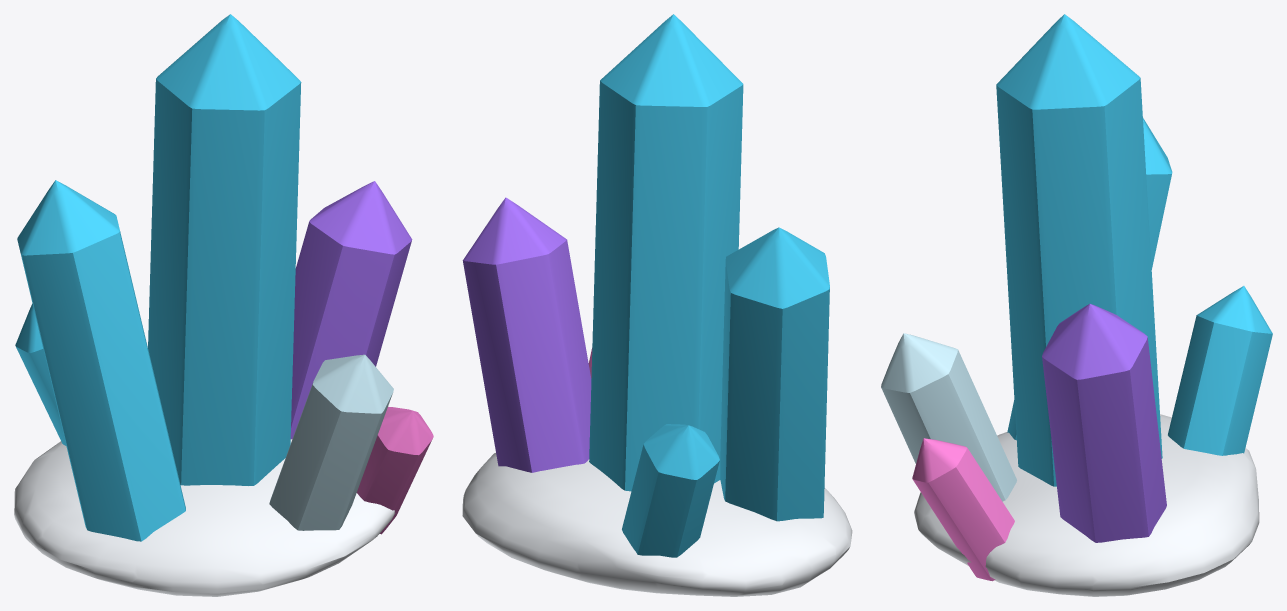
Rendered from CrystalClusterC.glb.
3 renders of one model, left to right at view 1: azimuth 30°, elevation 25°; view 2: azimuth 150°, elevation 25°; view 3: azimuth 270°, elevation 25°, orthographic.
Parts seen in each view (by area): view 1: CrystalClusterC; view 2: CrystalClusterC; view 3: CrystalClusterC.
Part boxes in pixels (<box>): CrystalClusterC: <box>14,14,433,596</box>; CrystalClusterC: <box>462,14,852,596</box>; CrystalClusterC: <box>881,14,1272,596</box>.
Bounding box in the file's own units: 13.45 × 18.64 × 12.36.
1 material, 1 textured.
